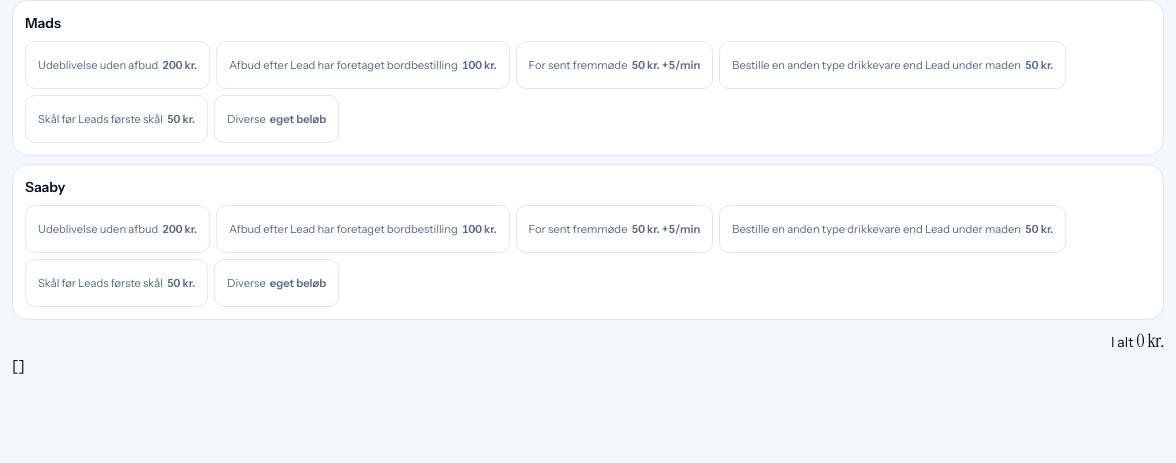
Test: a number too large to be lateness is refused, and says so
This screenshot has width=1176, height=463.
Click the 1st button "For sent fremmøde 50 kr. +5/min" at (614, 65), box [516,41,713,89]
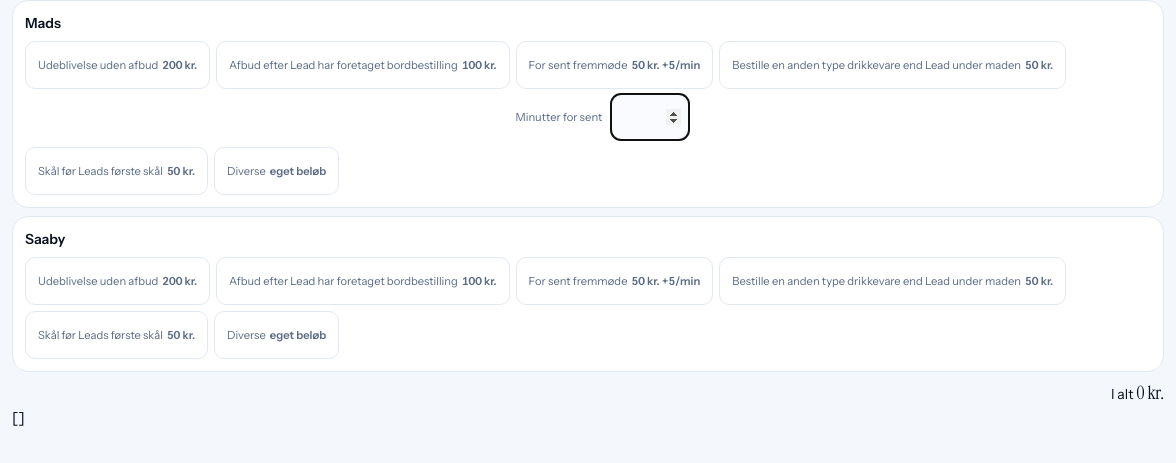
Type "99999" into the number field named "Minutter for sent — Mads" at (650, 117), box [610,93,690,141]
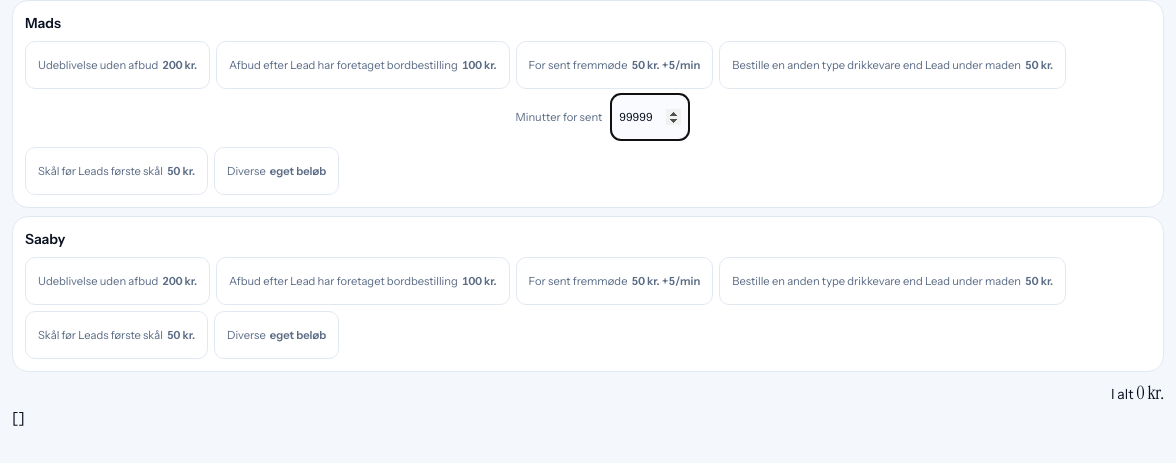
Click the heading "Saaby" at (45, 239), box [25,230,65,248]
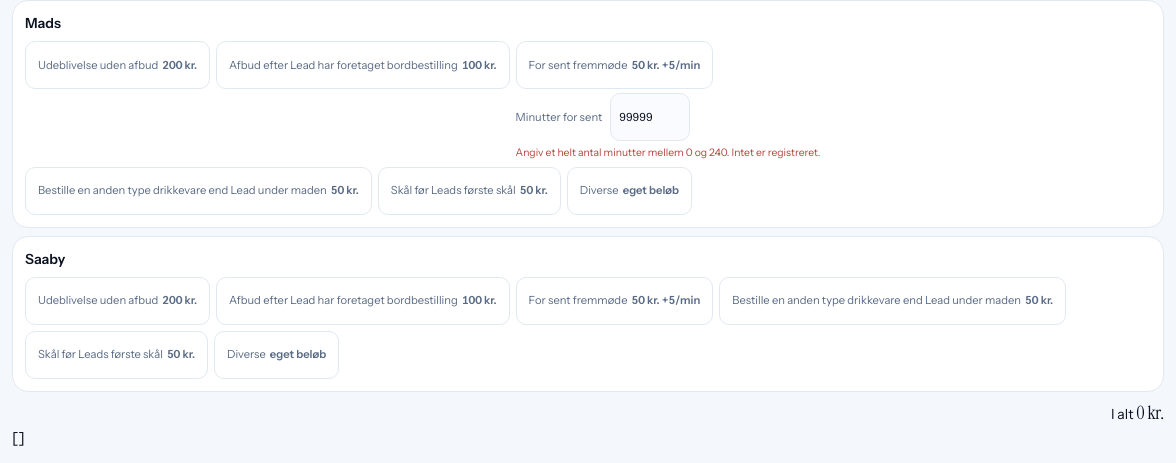
Check: the message shows "mellem 0 og 240", box [516,146,820,159]
